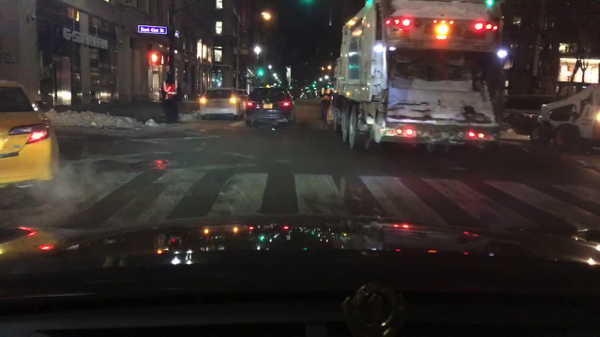car: (1, 80, 61, 191), (539, 82, 597, 145), (243, 86, 296, 127), (198, 87, 245, 120), (501, 95, 554, 122), (319, 93, 332, 125), (237, 88, 250, 100)
person: (160, 71, 181, 122)
traffic light: (147, 52, 159, 65), (162, 52, 172, 64), (257, 68, 263, 77), (326, 83, 331, 90), (312, 82, 317, 88), (288, 85, 292, 91), (308, 88, 310, 93)
traffic sign: (138, 25, 167, 34), (173, 29, 180, 39)
truck: (331, 1, 531, 158)
